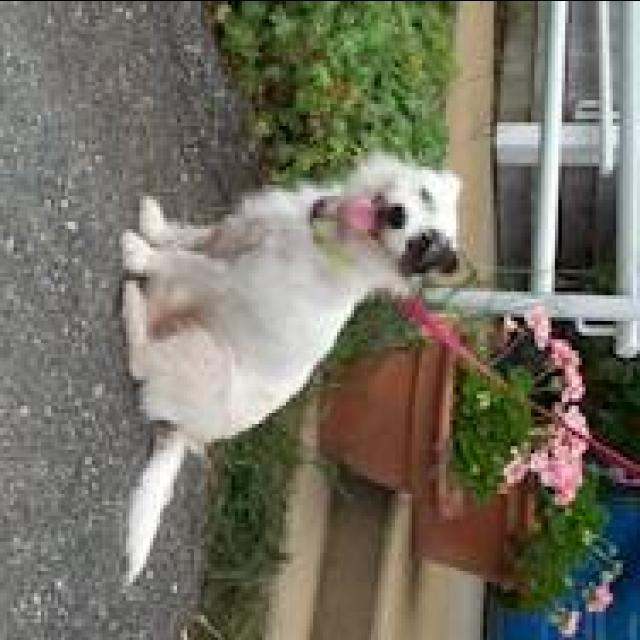dog: (66, 125, 474, 589)
